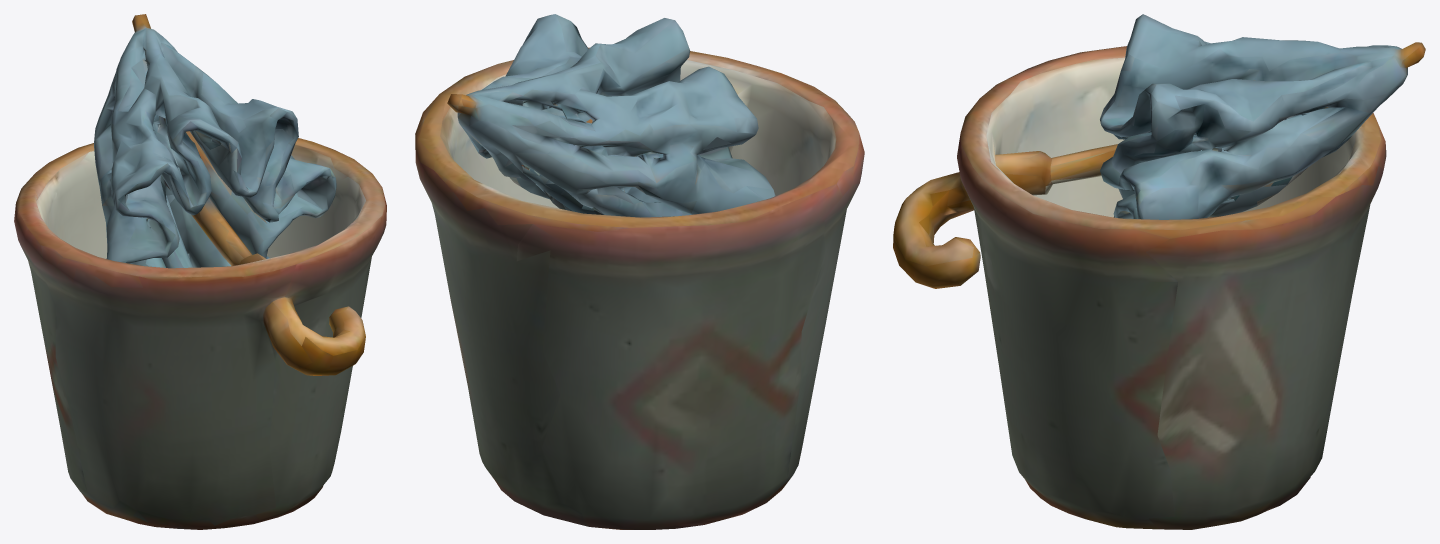
The model's file is sc-folded-umbrella.glb.
3 renders of one model, left to right at view 1: azimuth 30°, elevation 25°; view 2: azimuth 150°, elevation 25°; view 3: azimuth 270°, elevation 25°, orthographic. The views are drawn at different scales.
Parts seen in each view (by area): view 1: geometry_0; view 2: geometry_0; view 3: geometry_0.
Boxes of the visible parts, box(x1,y1,x2,y2) form: geometry_0: box(14, 14, 386, 529); geometry_0: box(415, 14, 864, 529); geometry_0: box(893, 14, 1425, 529).
Size of the model in its own units: 0.8465 by 0.9388 by 1.
1 material, 1 textured.
